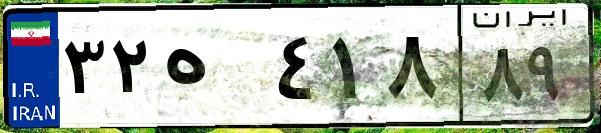1: (330, 28, 385, 110)
2: (110, 28, 158, 98)
3: (57, 26, 110, 100)
4: (270, 28, 330, 110)
8: (385, 28, 445, 110), (475, 38, 525, 113)
9: (525, 38, 570, 115)
ه: (158, 20, 270, 120)
